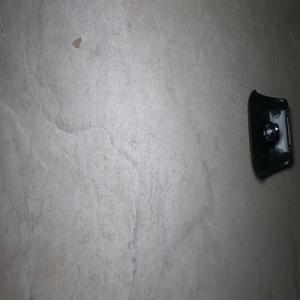LuggagePart: (247, 88, 294, 180)
